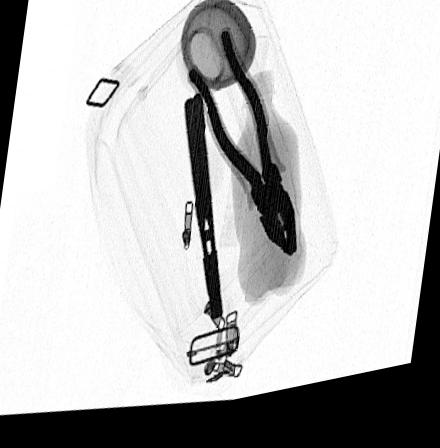Pliers: (185, 36, 297, 270), (182, 101, 223, 331)
